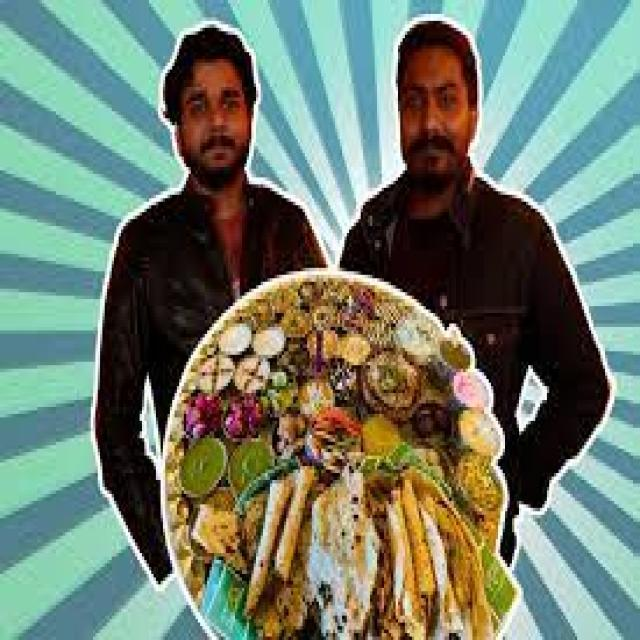dal: (114, 189, 232, 344)
sweet: (210, 171, 322, 298)
veg-fry: (110, 188, 230, 348), (159, 27, 268, 191), (189, 485, 258, 579)
